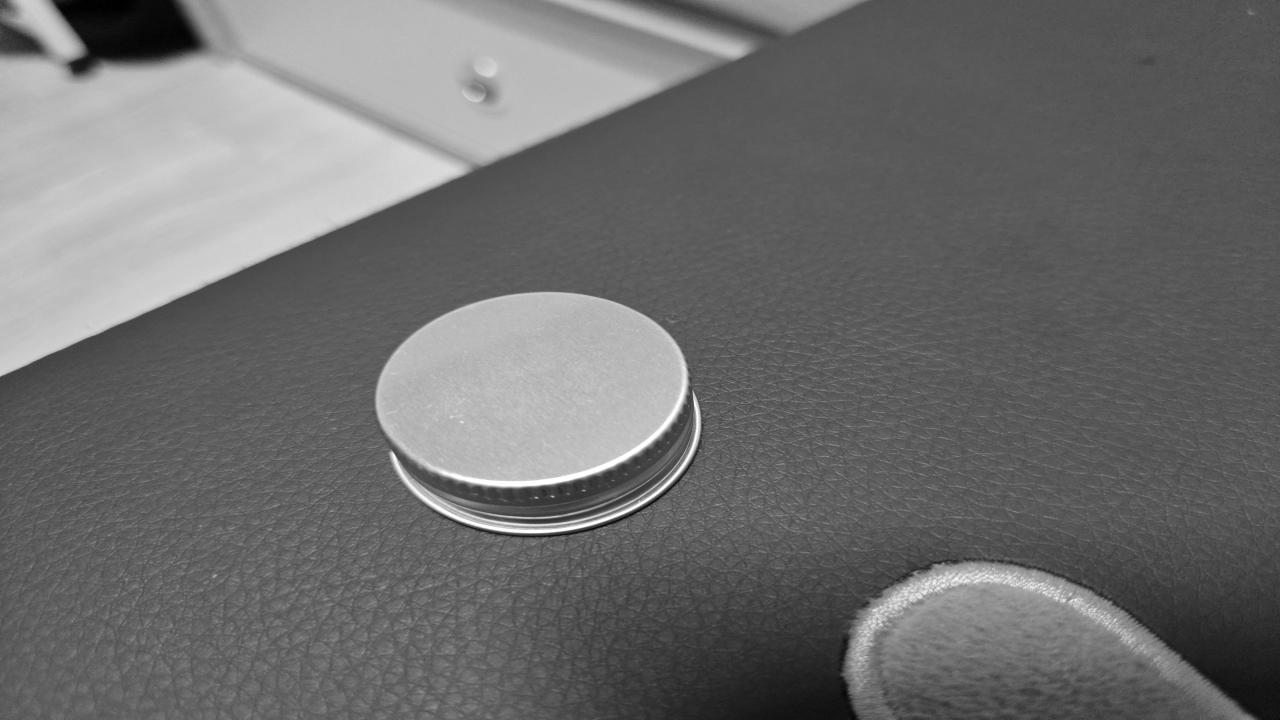bottle_cap: (367, 287, 702, 535)
